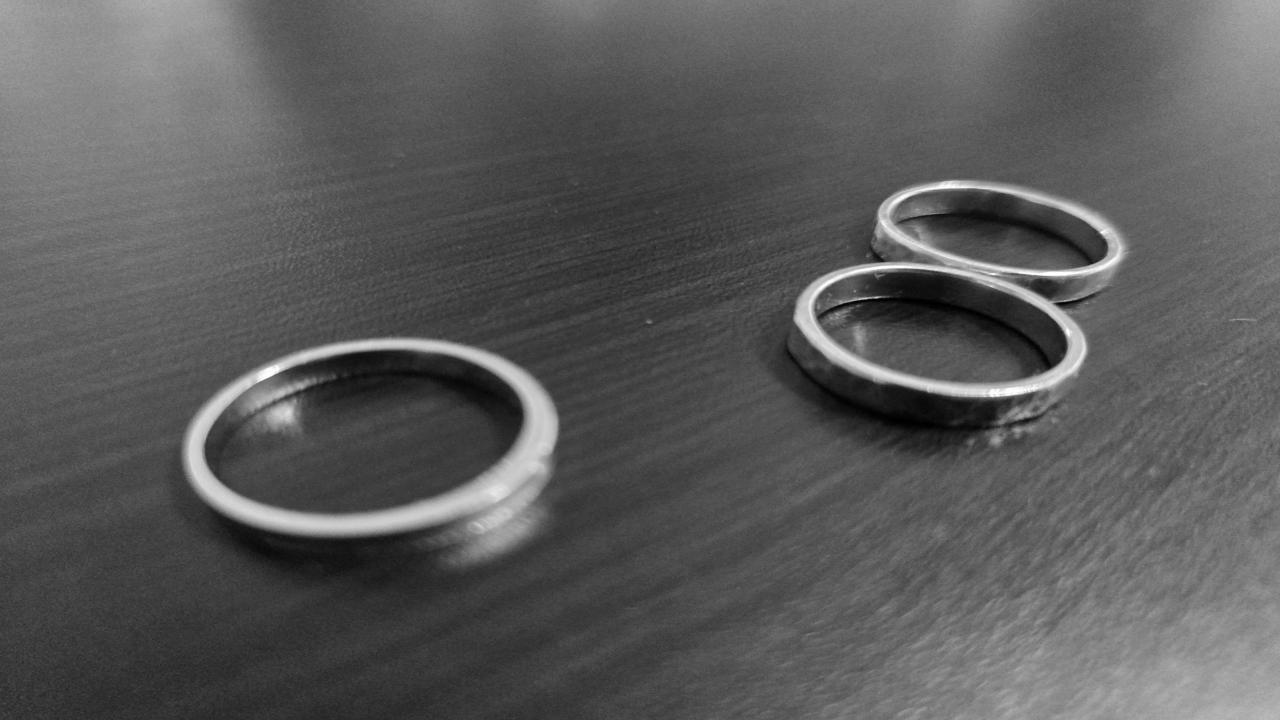ring: (182, 337, 558, 559), (785, 261, 1089, 430), (868, 178, 1131, 304)
